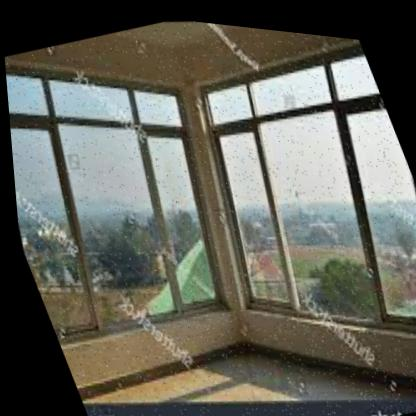Window: (0, 3, 286, 401), (132, 12, 416, 393)
